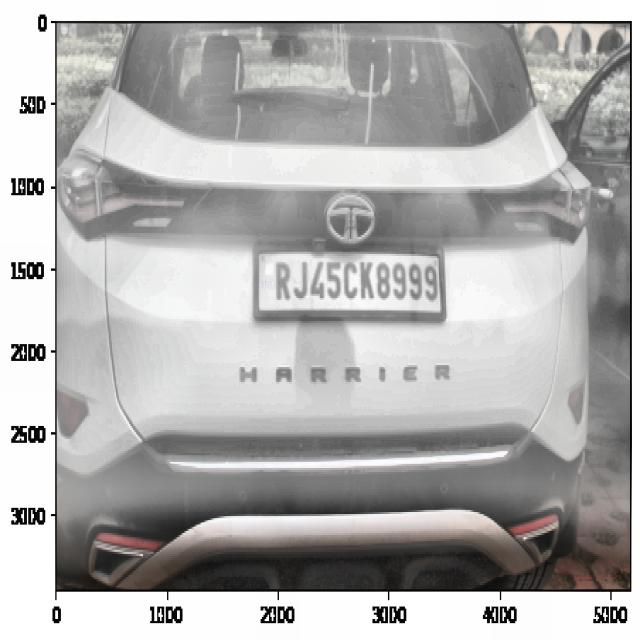license_plate: (266, 244, 444, 323)
